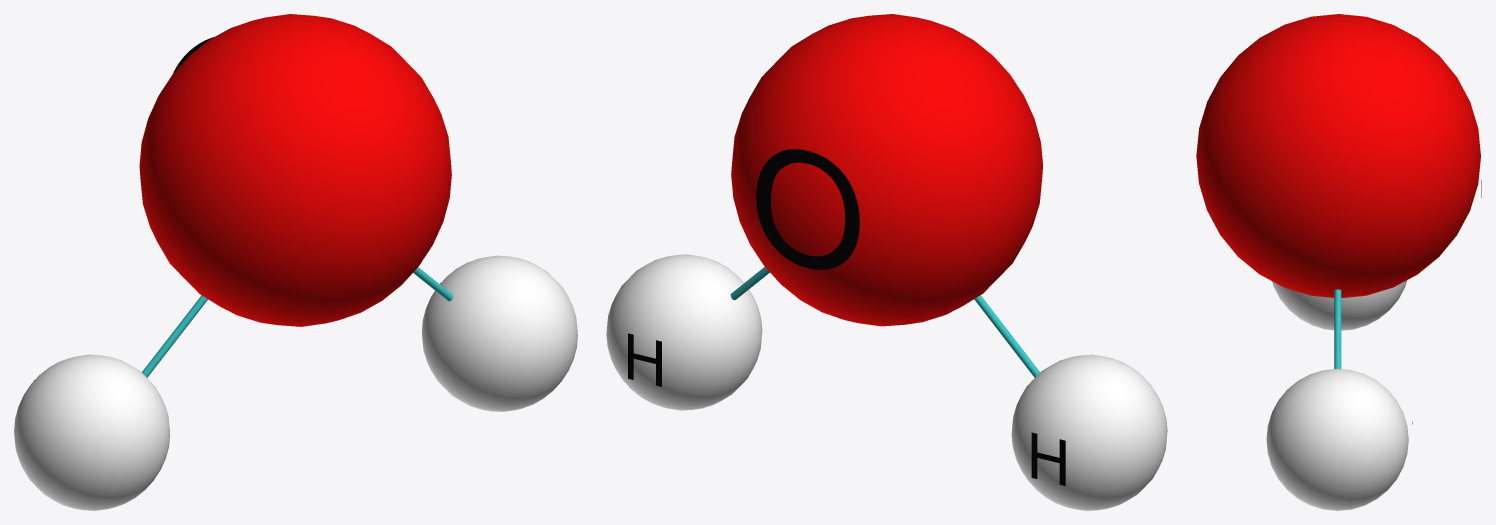
The picture shows the model from 3 angles, left to right: view 1: azimuth 30°, elevation 25°; view 2: azimuth 150°, elevation 25°; view 3: azimuth 270°, elevation 25°; orthographic projection. The views are drawn at different scales.
Visible parts, largest first — view 1: Sphere002, Sphere001, Sphere003, Cylinder002; view 2: Sphere002, Sphere001, Sphere003, Text002, Cylinder002, Text001, Text003; view 3: Sphere002, Sphere003, Sphere001, Cylinder001.
Part boxes in pixels (x1,y1,x2,y2): Sphere002: (139,14,451,326); Sphere001: (14,354,170,510); Sphere003: (421,255,577,411); Cylinder002: (142,295,208,377); Sphere002: (731,14,1042,326); Sphere001: (1011,354,1167,510); Sphere003: (606,254,762,410); Text002: (756,149,859,269); Cylinder002: (974,295,1039,377); Text001: (1031,432,1065,485); Text003: (628,333,661,386); Sphere002: (1196,14,1480,297); Sphere003: (1266,368,1408,510); Sphere001: (1272,280,1407,330); Cylinder001: (1334,289,1341,368).
Size of the model in its own units: 160 by 120 by 80.18.
